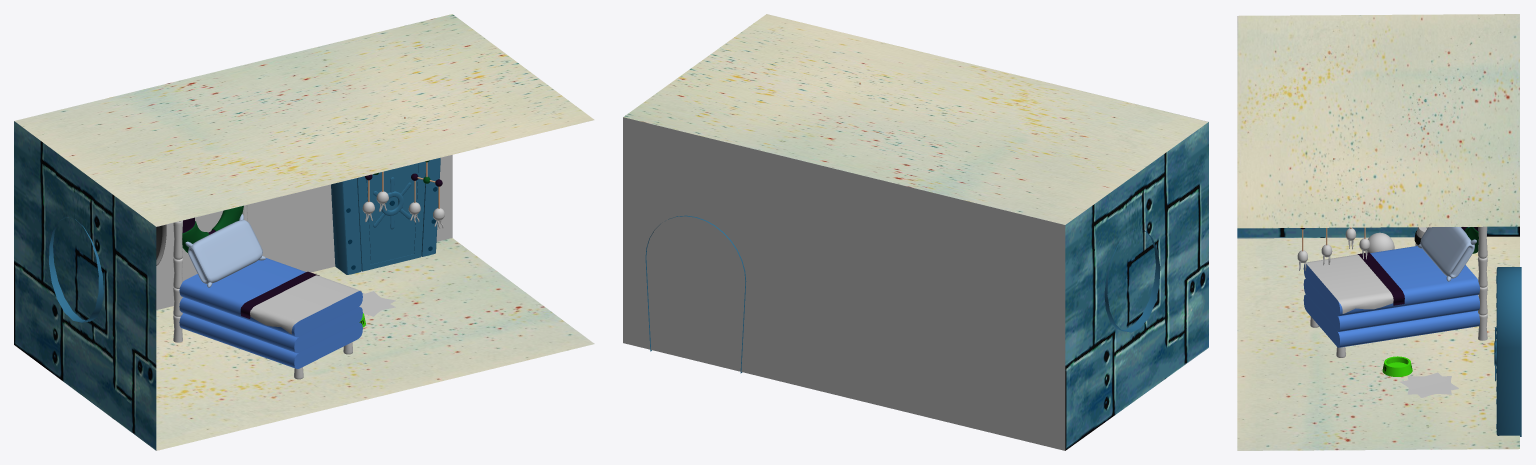
Rendered from Spongebob's Bedroom.FBX.
3 renders of one model, left to right at view 1: azimuth 30°, elevation 25°; view 2: azimuth 150°, elevation 25°; view 3: azimuth 270°, elevation 25°, orthographic.
Visible parts, largest first — view 1: Floor, Bed, House, Window, Jellyfish; view 2: Floor, Window; view 3: Floor, Bed, House, Newspaper, Jellyfish, Gary's Bowl, Ball.
Boxes of the visible parts, x1,y1,x2,y2 form: Floor: (14, 14, 594, 450); Bed: (173, 205, 362, 379); House: (331, 158, 440, 274); Window: (49, 217, 103, 322); Jellyfish: (362, 117, 444, 228); Floor: (623, 14, 1208, 450); Window: (1104, 229, 1160, 332); Floor: (1237, 14, 1519, 450); Bed: (1303, 226, 1487, 357); House: (1494, 267, 1521, 436); Newspaper: (1399, 372, 1458, 397); Jellyfish: (1297, 158, 1369, 270); Gary's Bowl: (1382, 356, 1412, 376); Ball: (1367, 232, 1394, 252).
Size of the model in its own units: 1449 by 703 by 804.
